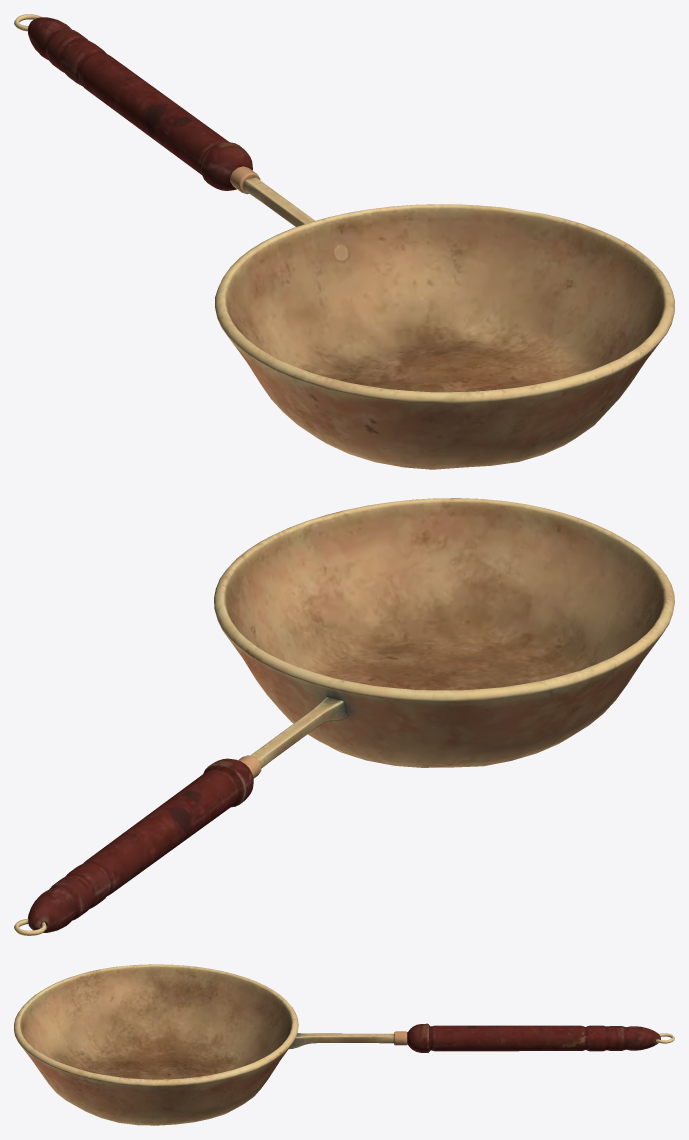
File: brass_pan_01.glb
3 renders of one model, top to bottom at view 1: azimuth 30°, elevation 25°; view 2: azimuth 150°, elevation 25°; view 3: azimuth 270°, elevation 25°, orthographic. The views are drawn at different scales.
Parts seen in each view (by area): view 1: brass_pan_01; view 2: brass_pan_01; view 3: brass_pan_01.
Boxes of the visible parts, left/top/right/bottom form: brass_pan_01: left=14, top=14, right=674, bottom=469; brass_pan_01: left=14, top=498, right=674, bottom=935; brass_pan_01: left=14, top=964, right=674, bottom=1125.
Bounding box in the file's own units: 0.1913 × 0.0525 × 0.4497.
1 material, 1 textured.
